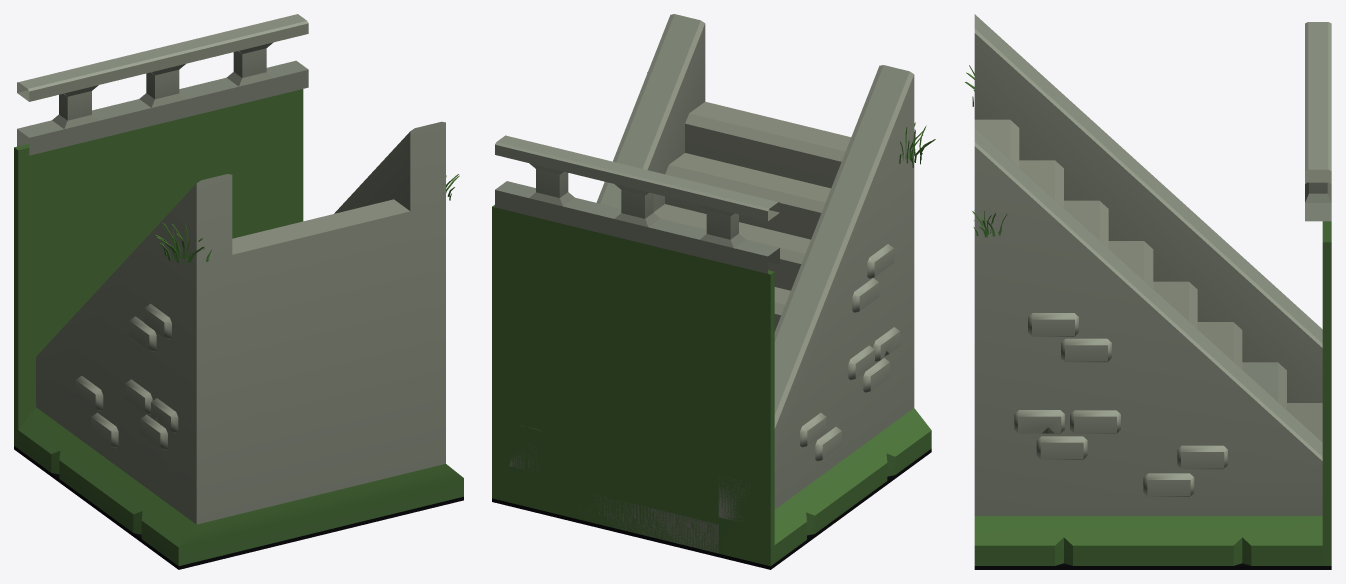
The model's file is stairs_down.fbx.
The picture shows the model from 3 angles, left to right: view 1: azimuth 30°, elevation 25°; view 2: azimuth 150°, elevation 25°; view 3: azimuth 270°, elevation 25°; orthographic projection. The views are drawn at different scales.
Parts seen in each view (by area): view 1: stairs_down; view 2: stairs_down; view 3: stairs_down.
Part boxes in pixels (left/top/right/bottom): stairs_down: left=14, top=14, right=463, bottom=569; stairs_down: left=492, top=14, right=935, bottom=569; stairs_down: left=965, top=14, right=1331, bottom=569.
Size of the model in its own units: 4.19 by 5.15 by 4.12.
